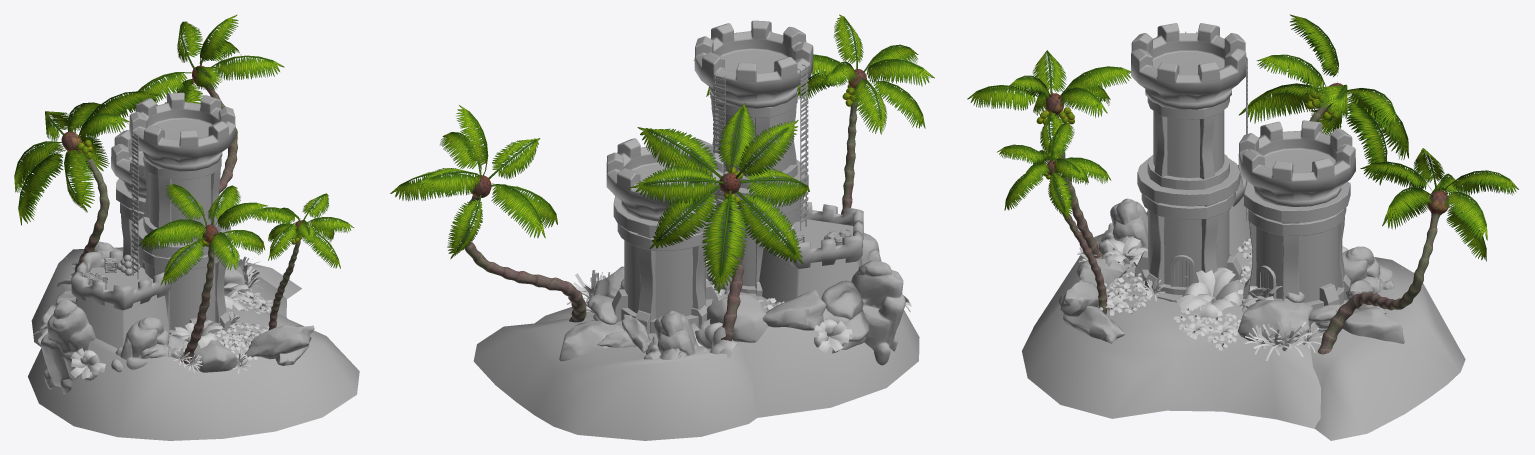
Rendered from island_2.fbx.
3 views of the same model, side by side, from view 1: azimuth 30°, elevation 25°; view 2: azimuth 150°, elevation 25°; view 3: azimuth 270°, elevation 25° (orthographic). The views are drawn at different scales.
Visible parts, largest first — view 1: polySurface2, PalmTree5, PalmTree2, PalmTree3, PalmTree4, polySurface148, polySurface4, Plant_Fern4, Plant_Fern5, Plant_Fern; view 2: polySurface2, polySurface4, PalmTree5, polySurface148, PalmTree3, PalmTree2, polySurface219, polySurface215, polySurface6, Plant_Fern2, Plant_Fern3, polySurface182; view 3: polySurface2, polySurface148, polySurface4, PalmTree5, PalmTree3, PalmTree2, PalmTree4, Plant_Fern, polySurface219, polySurface215, Plant_Fern5.
Boxes of the visible parts, x1,y1,x2,y2 form: polySurface2: (28,92,359,440); PalmTree5: (14,91,159,272); PalmTree2: (139,184,267,364); PalmTree3: (134,14,284,194); PalmTree4: (249,193,353,329); polySurface148: (111,130,146,257); polySurface4: (31,247,301,346); Plant_Fern4: (70,348,105,380); Plant_Fern5: (171,320,222,348); Plant_Fern: (224,283,251,310); polySurface2: (535,20,919,417); polySurface4: (473,315,757,440); PalmTree5: (630,103,809,341); polySurface148: (606,134,723,334); PalmTree3: (390,105,586,322); PalmTree2: (797,14,934,214); polySurface219: (559,295,624,361); polySurface215: (644,310,708,362); polySurface6: (597,314,651,352); Plant_Fern2: (691,319,736,358); Plant_Fern3: (813,319,852,353); polySurface182: (713,72,727,229); polySurface2: (1022,23,1320,428); polySurface148: (1238,120,1355,309); polySurface4: (1305,257,1465,440); PalmTree5: (1239,14,1408,185); PalmTree3: (1318,148,1518,354); PalmTree2: (967,50,1131,258); PalmTree4: (997,122,1111,314); Plant_Fern: (1176,267,1241,318); polySurface219: (1308,304,1404,343); polySurface215: (1342,246,1402,292); Plant_Fern5: (1101,237,1147,270).
Bounding box in the file's own units: 1412 × 1123 × 1857.
